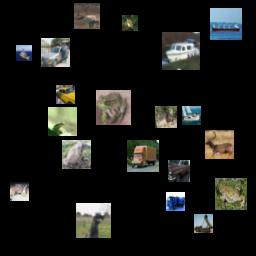automobile: (41, 38, 70, 67), (168, 160, 190, 182), (56, 85, 75, 104)
bird: (76, 203, 111, 238), (122, 15, 138, 31)
cat: (10, 182, 29, 201)
deer: (205, 130, 234, 159), (74, 3, 100, 29), (155, 106, 177, 128)
frog: (96, 90, 131, 125), (215, 178, 247, 210), (48, 107, 77, 136), (62, 140, 91, 169)
ship: (162, 32, 200, 70), (210, 8, 242, 40), (182, 106, 201, 125), (16, 45, 32, 61)
truck: (127, 140, 159, 172), (194, 214, 213, 233), (166, 192, 185, 211)
